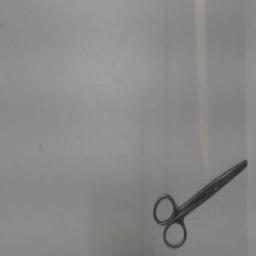Dressing Scissors: (146, 152, 252, 252)
